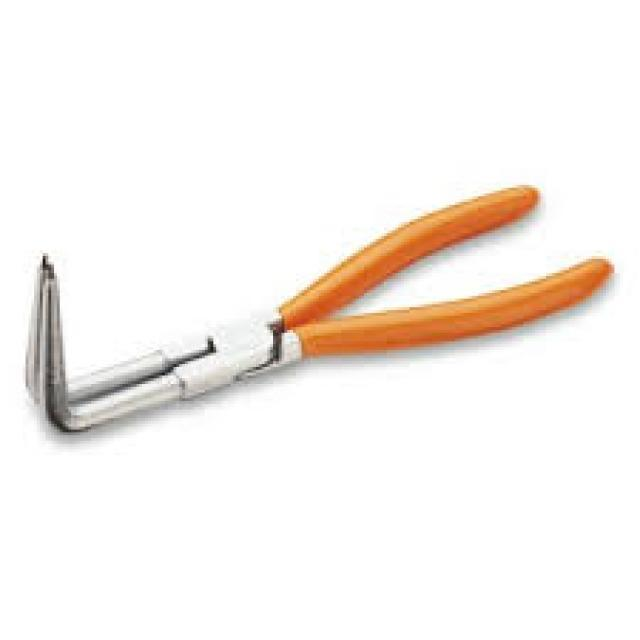pliers: (16, 172, 632, 456)
